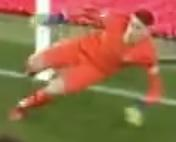goalkeeper: (8, 3, 169, 134)
